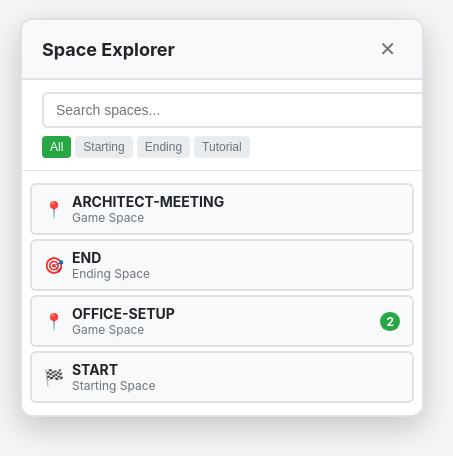
Test: SpaceExplorerPanel › should filter spaces by type
Step 1. Click the button "Starting" → (104, 147), box [75,136,133,158]
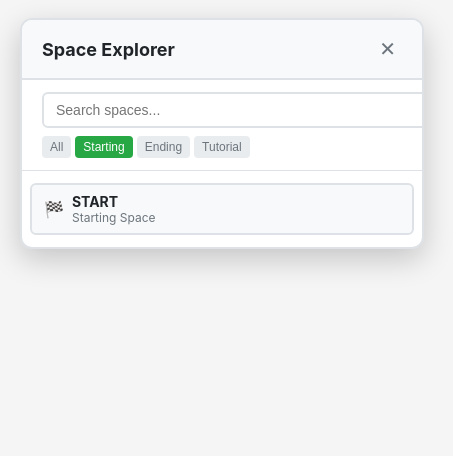
Expected: the text "START" is shown, [72,193,118,210]
Result: the text "OFFICE-SETUP" is gone
Result: the text "ARCHITECT-MEETING" is gone
